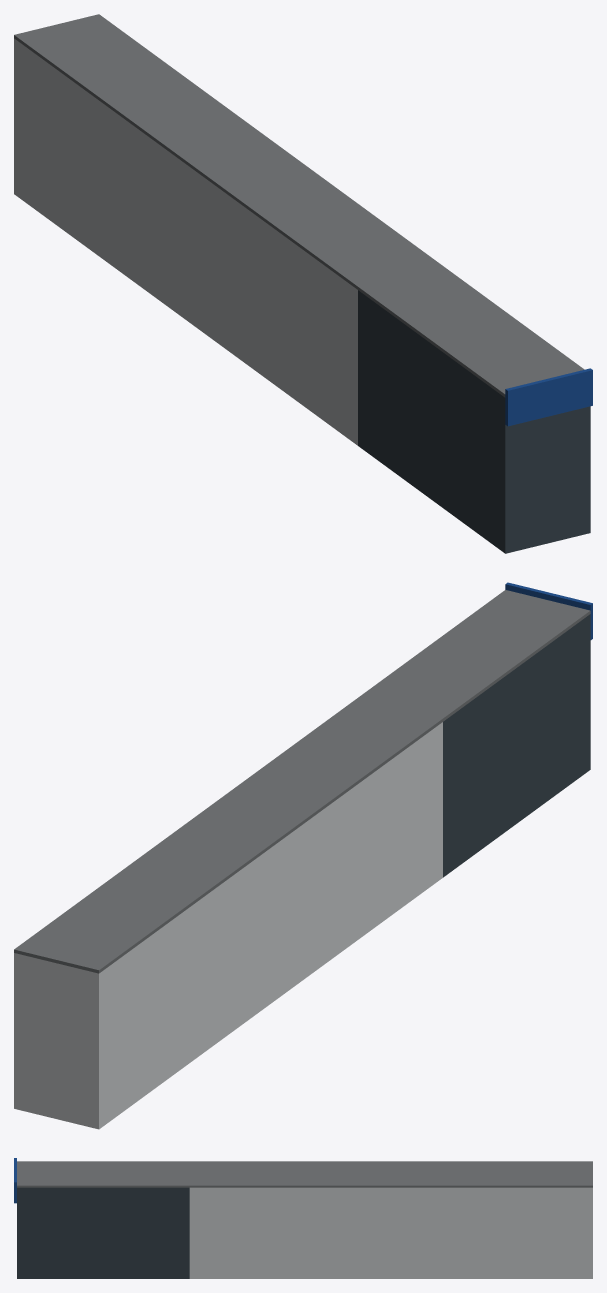
The model's file is showroom-bay.glb.
The picture shows the model from 3 angles, top to bottom: view 1: azimuth 30°, elevation 25°; view 2: azimuth 150°, elevation 25°; view 3: azimuth 270°, elevation 25°; orthographic projection. The views are drawn at different scales.
Parts seen in each view (by area): view 1: showroom-bay; view 2: showroom-bay; view 3: showroom-bay.
Boxes of the visible parts, x1,y1,x2,y2 form: showroom-bay: [14, 14, 592, 553]; showroom-bay: [14, 582, 592, 1129]; showroom-bay: [14, 1158, 592, 1278].
Size of the model in its own units: 4 by 7.4 by 40.2.
